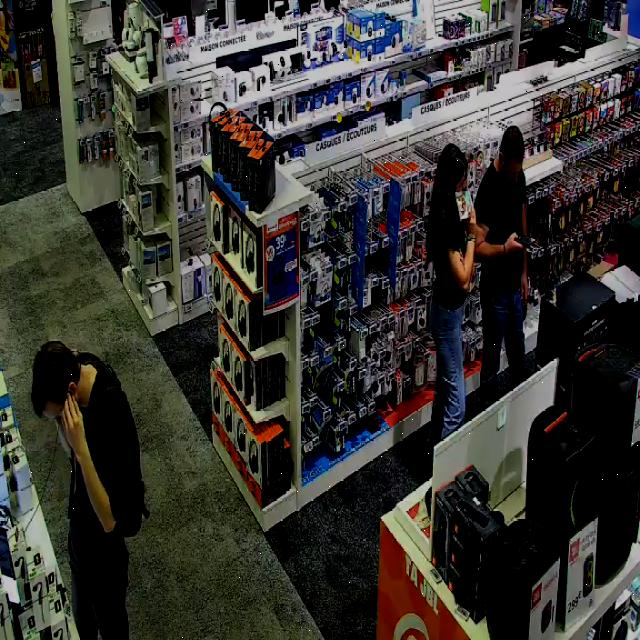article: (455, 190, 472, 220)
hands: (61, 393, 89, 458), (504, 230, 527, 259), (467, 203, 476, 238), (519, 275, 528, 303)
person: (31, 341, 148, 639), (426, 143, 476, 462), (475, 126, 527, 403)
